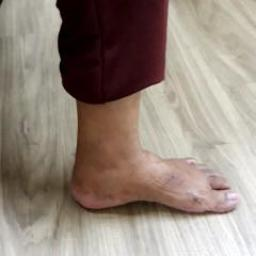Medial View -Left Foot-: (56, 120, 248, 236)
